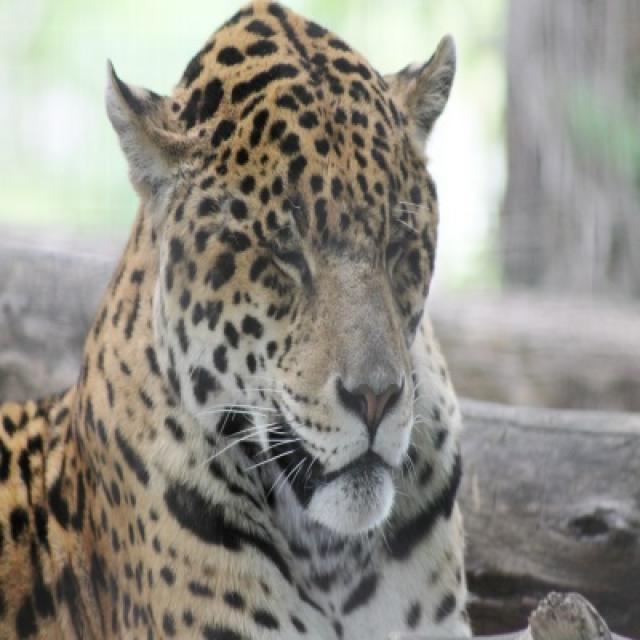Jaguar: (0, 0, 475, 638)
